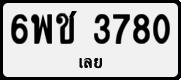letters: (55, 9, 77, 45), (30, 12, 53, 44), (112, 12, 132, 45), (10, 13, 29, 45), (132, 13, 151, 45), (152, 13, 171, 45), (93, 13, 111, 45)
province: (77, 56, 104, 70)
